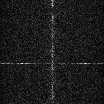wifi: (1, 62, 104, 64)
